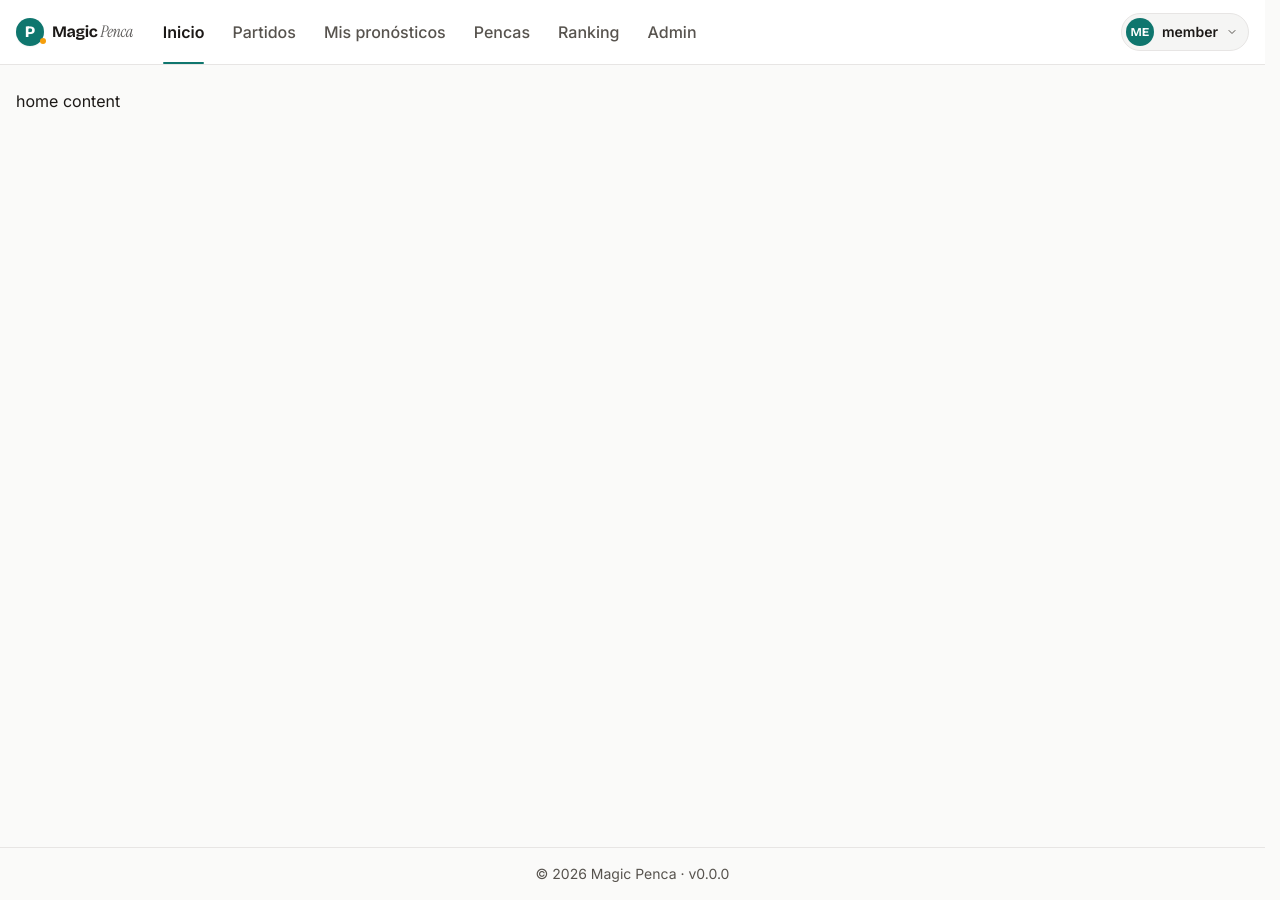
AppShell › shows the admin panel dropdown item to admins
Click the button "ME member" at (1185, 32), box x1=1121 y1=13 x2=1249 y2=51
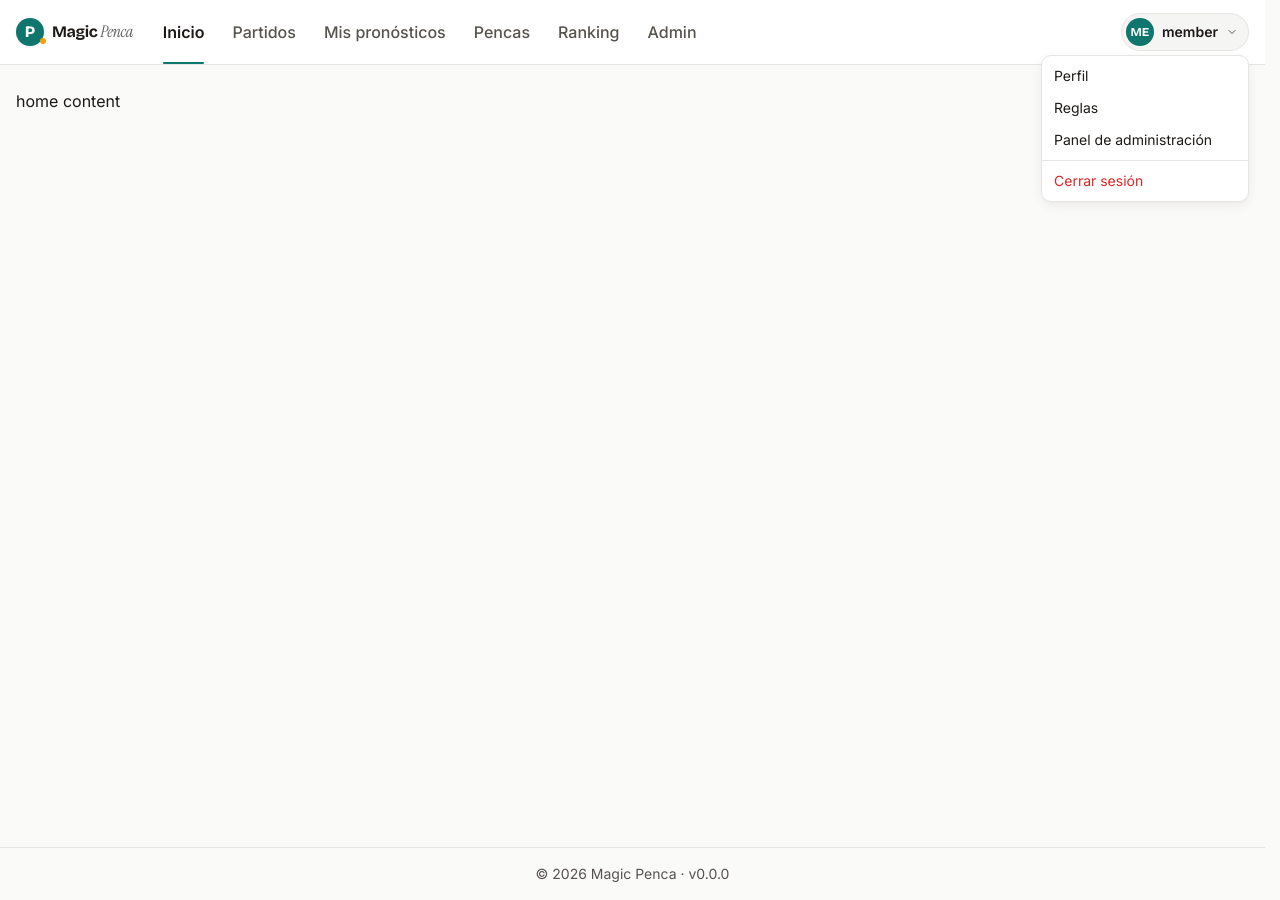
Now the menu item "Panel de administración" is shown, box x1=1054 y1=131 x2=1212 y2=148
